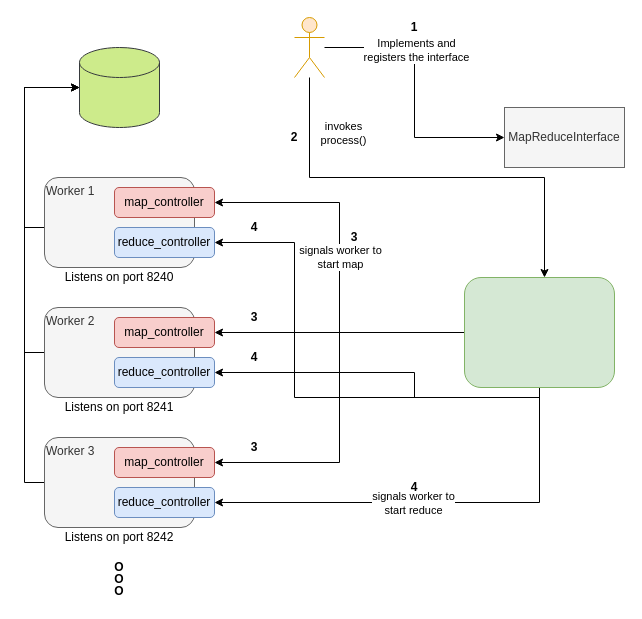
Some shapes in this 642 by 619 pixel diagram are drawn without their labels. The shapes that lost their labels are listed below. From the top down, each one's centre as x and y in pixels, then its label:
At [309,47]: "Client program".
At [119,87]: "Shared filesystem".
At [539,332]: "MapReduceMaster".
